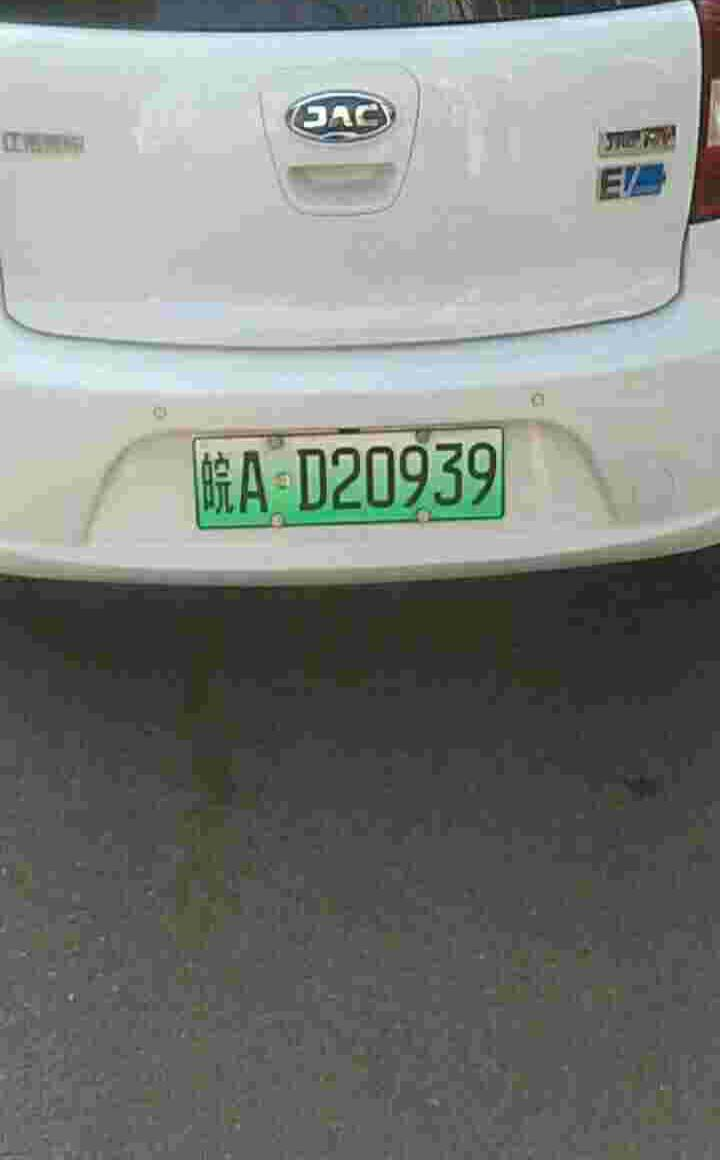car_id: (193, 427, 502, 526)
